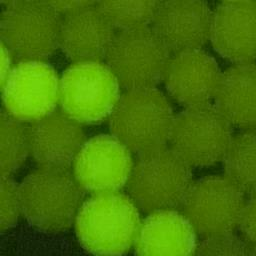negative: (17, 167, 82, 235), (109, 86, 173, 152), (167, 104, 234, 166), (128, 147, 193, 210), (106, 25, 168, 89), (2, 1, 62, 65), (27, 113, 87, 172), (183, 175, 242, 233), (164, 46, 222, 104), (62, 8, 115, 64), (210, 0, 256, 64), (155, 0, 213, 50), (218, 60, 256, 127), (222, 128, 255, 195), (1, 109, 33, 175), (95, 0, 163, 26), (191, 230, 251, 256), (0, 171, 23, 235), (237, 193, 256, 241), (47, 0, 101, 11)
positive: (57, 56, 124, 125), (74, 188, 139, 256), (70, 134, 135, 194), (3, 61, 63, 119), (135, 206, 203, 256), (0, 35, 13, 97)
